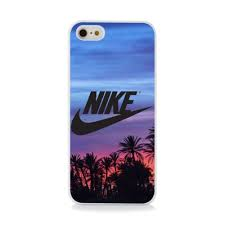nike: (70, 105, 151, 136)
